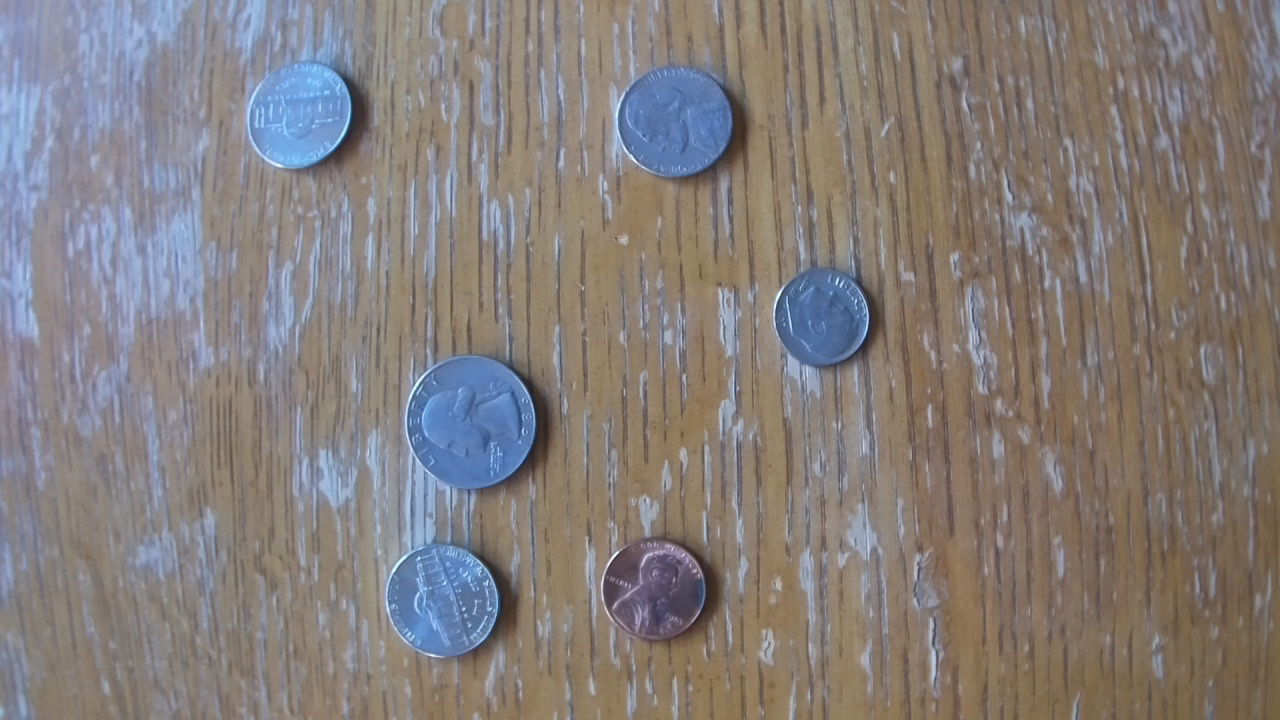dime: (774, 268, 871, 368)
nickel: (385, 540, 502, 661), (616, 67, 733, 179), (246, 59, 355, 173)
penny: (602, 535, 707, 640)
quarter: (405, 354, 538, 490)
